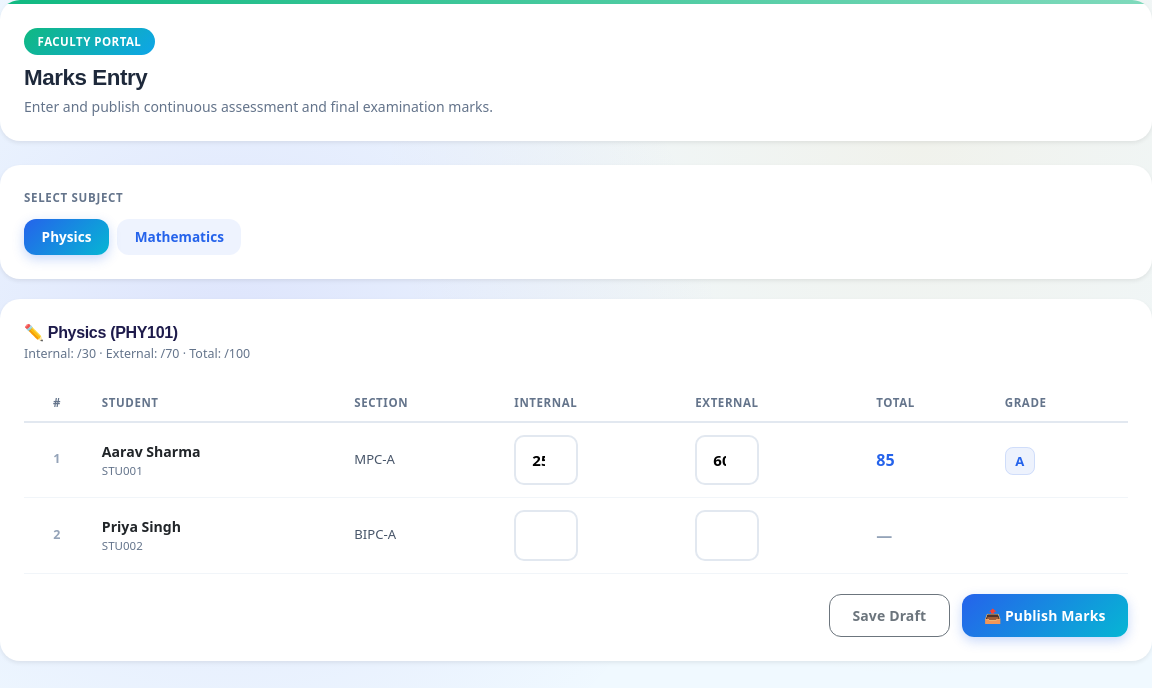
Test case: MarksEntry Component (Tier A Verified Flow) › publishes marks via POST API and displays published badge
Expected: the table with test id "marks-table" is shown, [24,384,1128,574]
Click the button with test id "publish-marks-btn" at [1045, 615], box [962,594,1128,637]
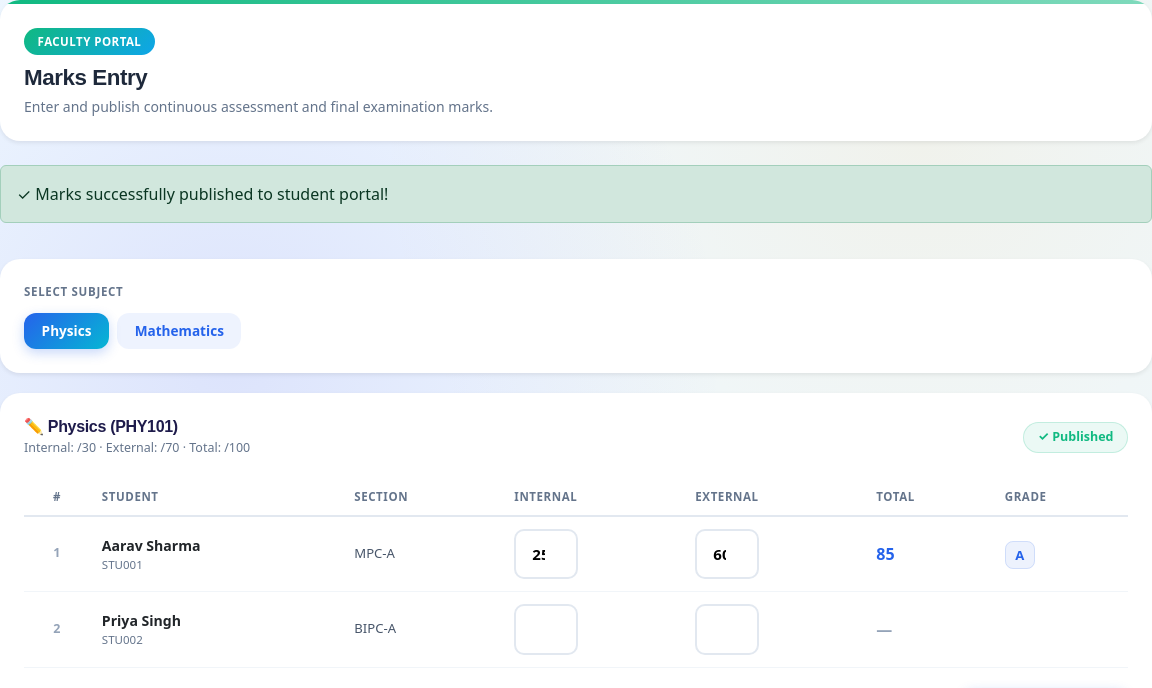
Expected: the text "✓ Published" is shown, [1023,422,1128,454]
Expected: the message with test id "marks-feedback" shows "Marks successfully published", [35,183,388,205]
